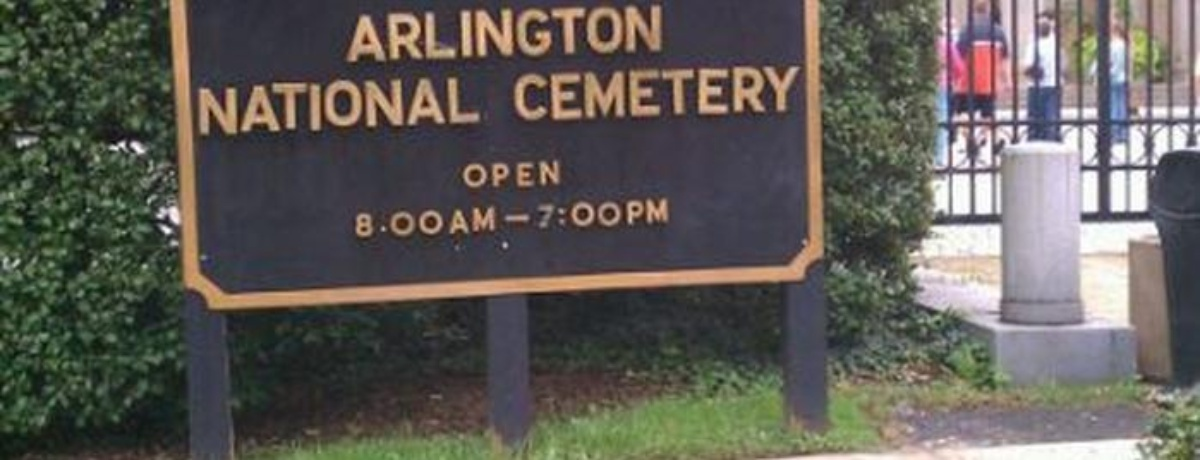text: (465, 74, 481, 138), (209, 74, 224, 138), (225, 74, 240, 138), (241, 74, 256, 138), (257, 74, 272, 138), (273, 74, 288, 138), (289, 74, 304, 138), (305, 74, 320, 138), (321, 74, 336, 138), (337, 74, 352, 138), (353, 74, 368, 138), (369, 74, 384, 138), (385, 74, 400, 138), (401, 74, 416, 138), (417, 74, 432, 138), (433, 74, 448, 138), (449, 74, 464, 138), (369, 4, 384, 66), (385, 4, 400, 66), (401, 4, 416, 66), (417, 4, 432, 66), (433, 4, 448, 66), (449, 4, 464, 66), (465, 4, 480, 66), (481, 4, 496, 66), (497, 4, 512, 66), (513, 4, 528, 66), (529, 4, 544, 66), (545, 4, 560, 66), (561, 4, 576, 66), (577, 4, 592, 66), (593, 4, 608, 66), (609, 4, 624, 66), (625, 4, 640, 66), (641, 4, 656, 66), (785, 64, 801, 121), (513, 64, 528, 121), (529, 64, 544, 121), (545, 64, 560, 121), (561, 64, 576, 121), (577, 64, 592, 121), (593, 64, 608, 121), (609, 64, 624, 121), (625, 64, 640, 121), (641, 64, 656, 121), (657, 64, 672, 121), (673, 64, 688, 121), (689, 64, 704, 121), (705, 64, 720, 121), (721, 64, 736, 121), (737, 64, 752, 121), (753, 64, 768, 121), (769, 64, 784, 121), (196, 74, 208, 138), (356, 4, 368, 66), (657, 198, 673, 239), (369, 198, 384, 239), (385, 198, 400, 239), (401, 198, 416, 239), (417, 198, 432, 239), (433, 198, 448, 239), (449, 198, 464, 239), (465, 198, 480, 239), (481, 198, 496, 239), (497, 198, 512, 239), (513, 198, 528, 239), (529, 198, 544, 239), (545, 198, 560, 239), (561, 198, 576, 239), (577, 198, 592, 239), (593, 198, 608, 239), (609, 198, 624, 239), (625, 198, 640, 239), (641, 198, 656, 239), (354, 198, 368, 239), (657, 4, 665, 66), (465, 158, 480, 189), (481, 158, 496, 189), (497, 158, 512, 189), (513, 158, 528, 189), (529, 158, 544, 189), (545, 158, 560, 189), (510, 64, 512, 121), (561, 158, 564, 189), (462, 158, 464, 189)
